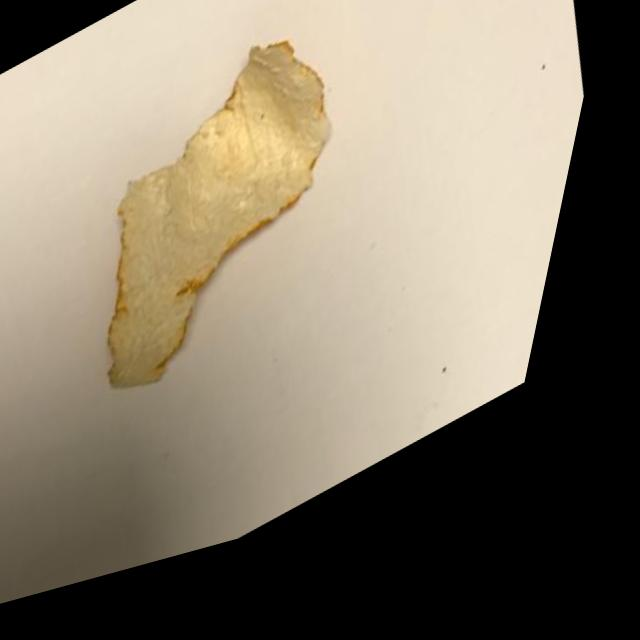trash: (0, 0, 493, 568)
